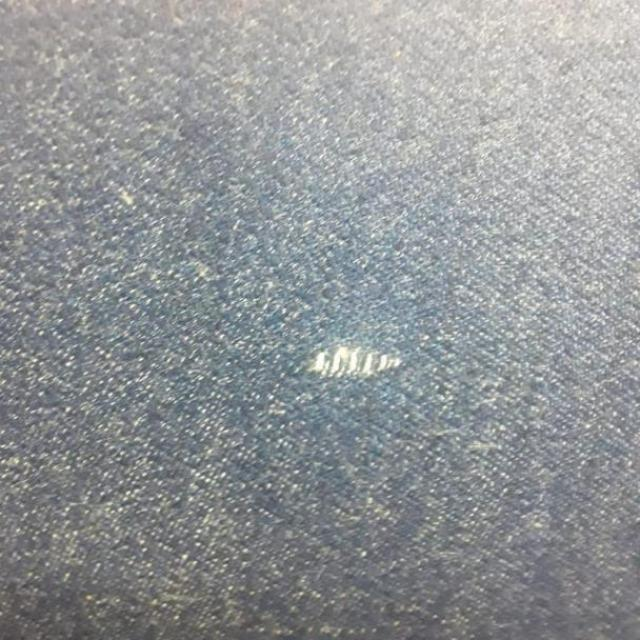Knot: (308, 347, 402, 377)
